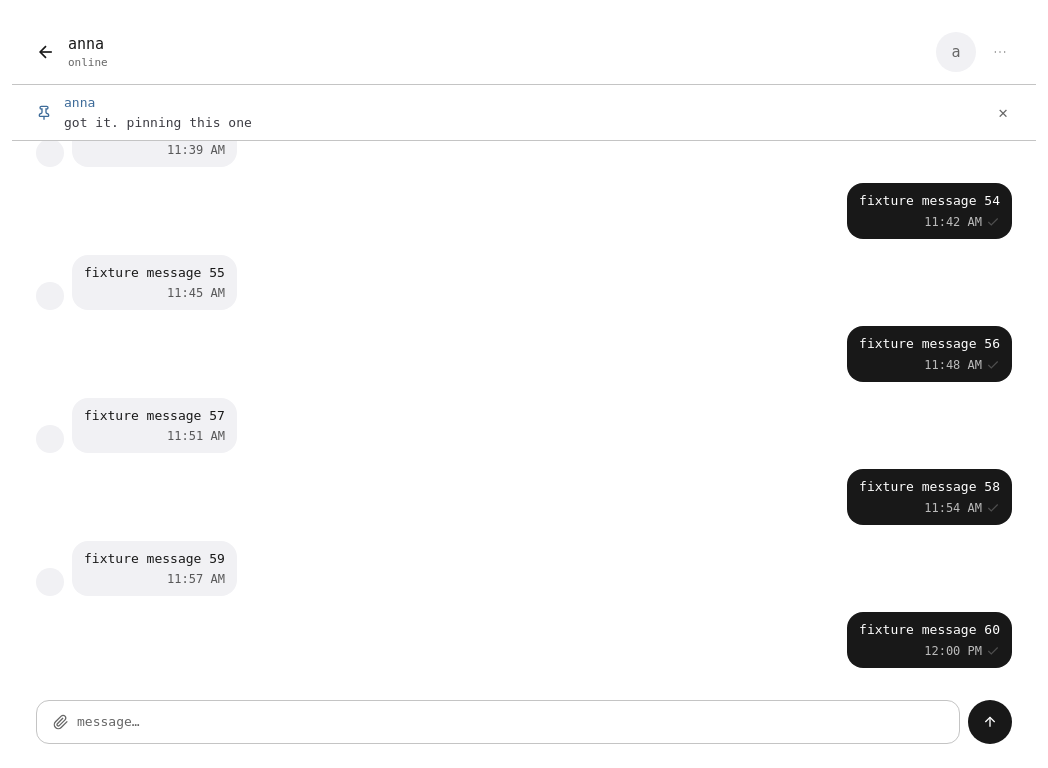
Test case: S5 in-chat search › finds a fragment, shows the counter, jumps to the match
The width and height of the screenshot is (1048, 768).
(page scrolled)
Click the button named "chat menu": [1000, 52] box [988,40,1012,64]
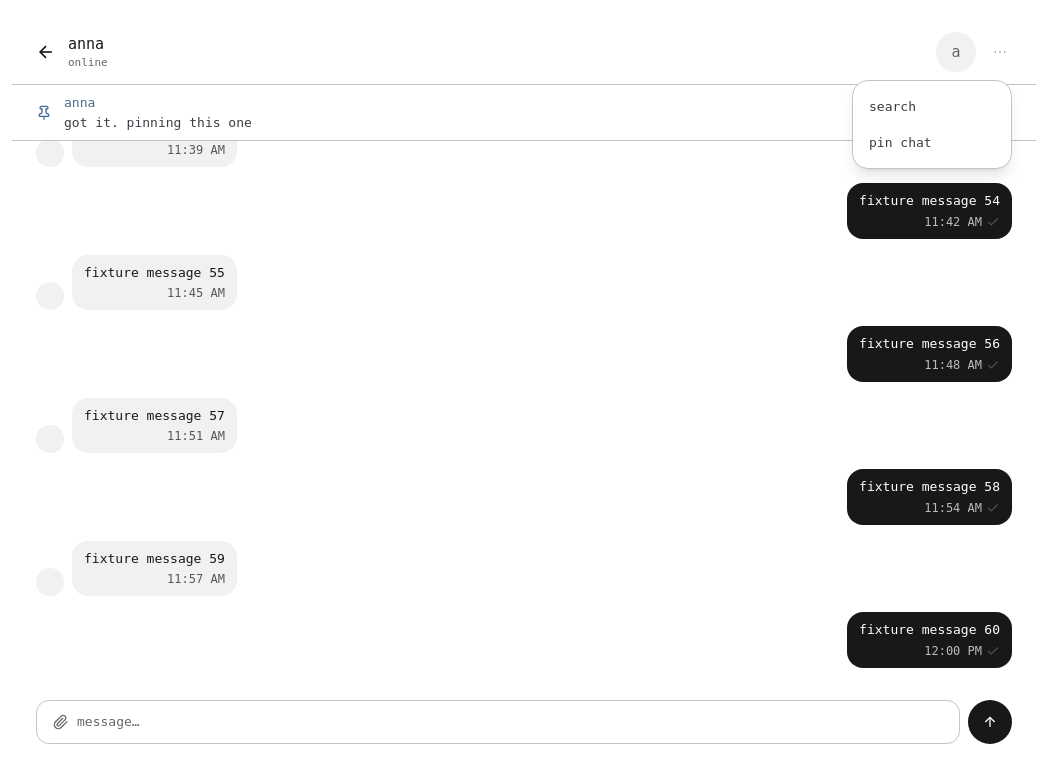
Click the button "search": [932, 107] box [853,89,1011,124]
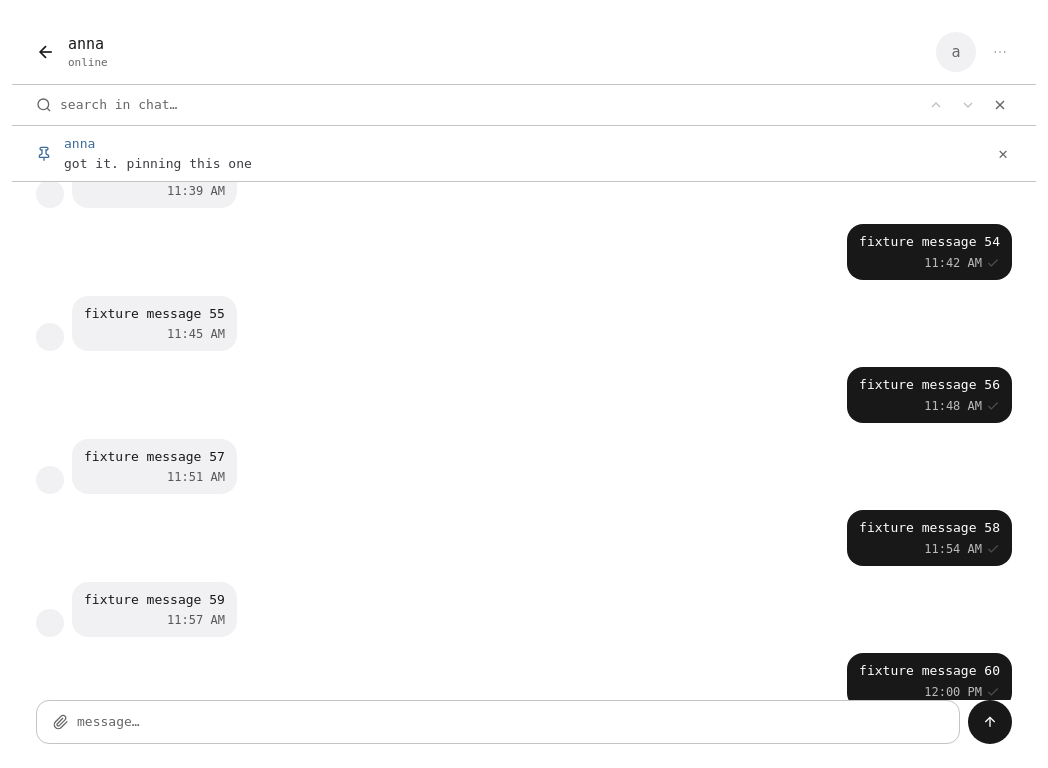
In the field with test id "search-input": [488, 105] box [60,95,916,115], type "fixtur"
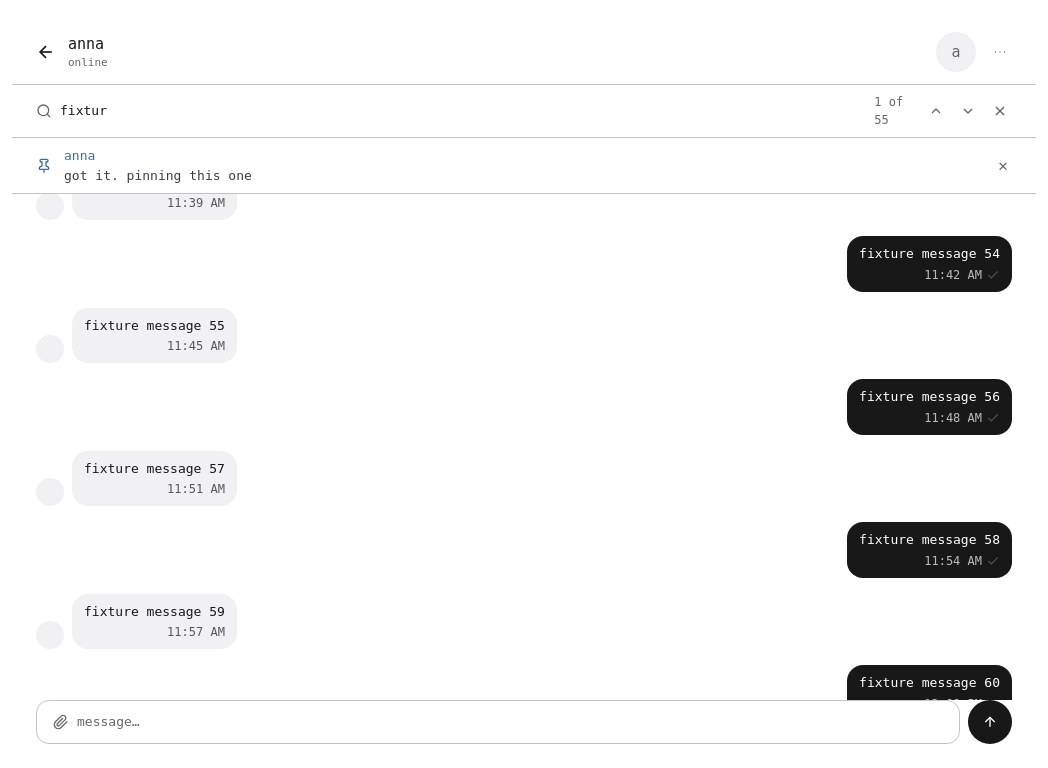
Now the text with test id "search-count" reads "1 of 55", box [874,95,903,127]
